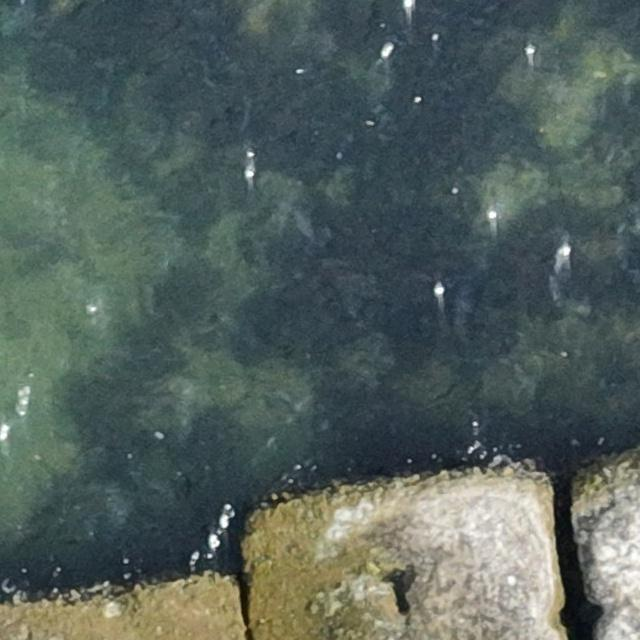umineko: (244, 152, 254, 178)
